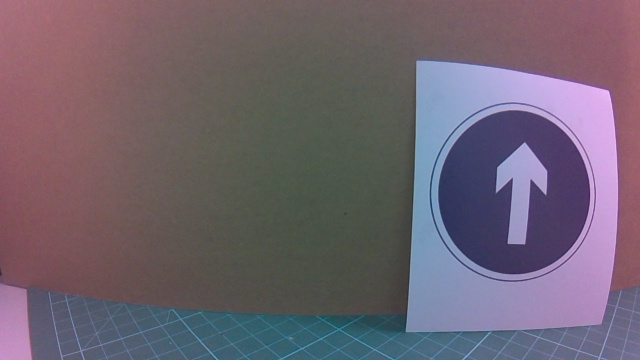forward: (423, 90, 619, 296)
